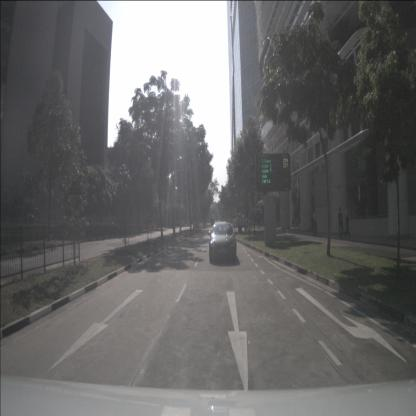human-pedestrian-adult: (344, 204, 351, 238), (338, 208, 343, 238), (312, 210, 317, 236)
vehicle-car: (209, 221, 237, 263)
vehicle-truck: (211, 213, 216, 227)
